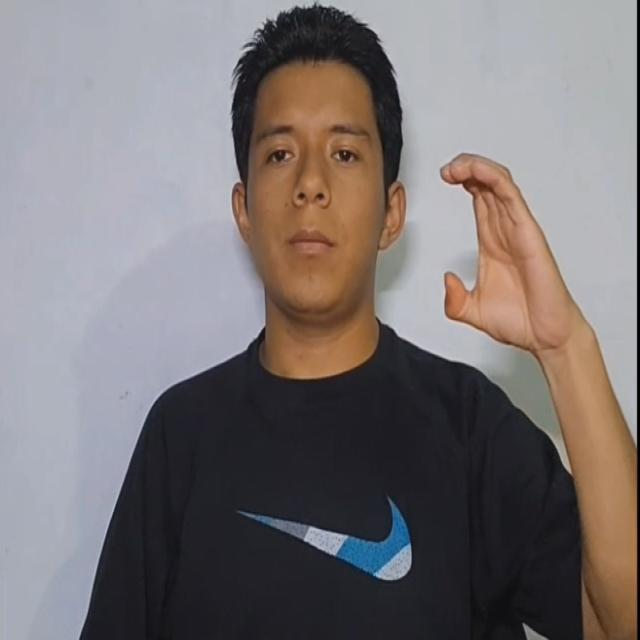C: (416, 138, 586, 375)
